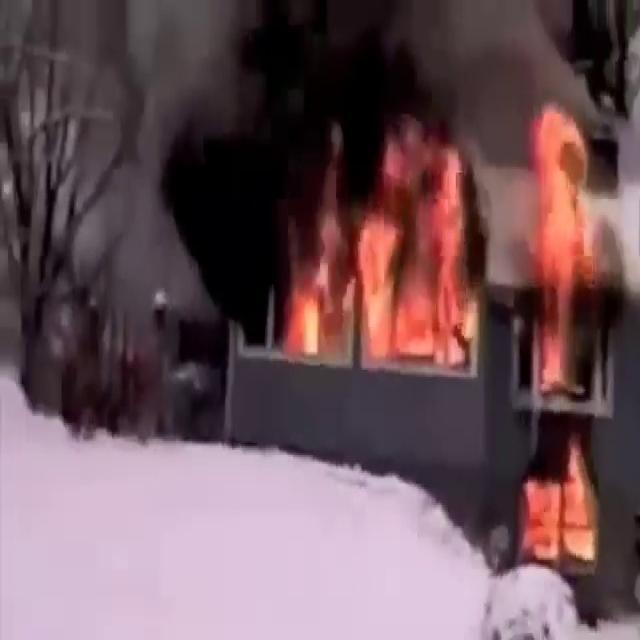Fire: (283, 119, 481, 377), (528, 100, 618, 340), (526, 441, 600, 571)
Smoke: (53, 0, 246, 340)
